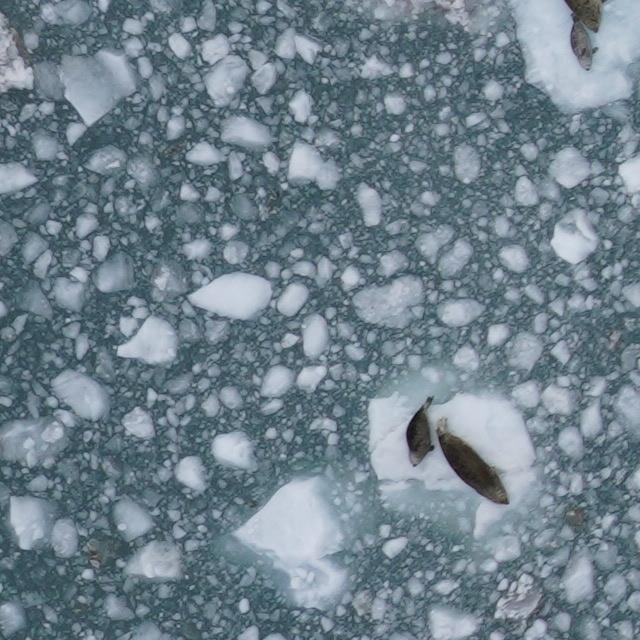seal: (432, 414, 515, 512), (402, 391, 439, 472), (563, 10, 604, 75)
